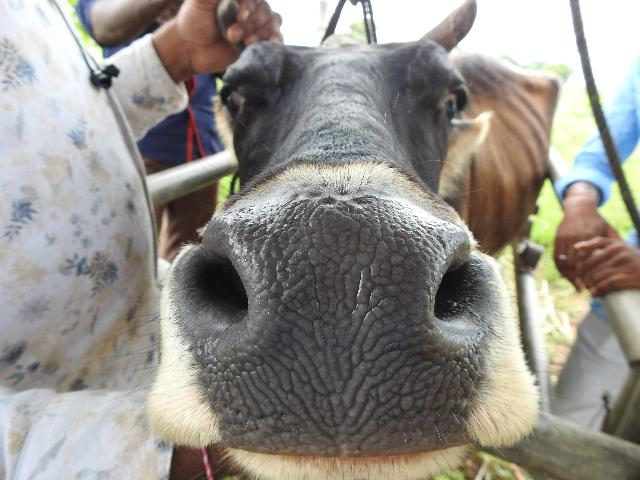Muzzle: (239, 212, 437, 432)
